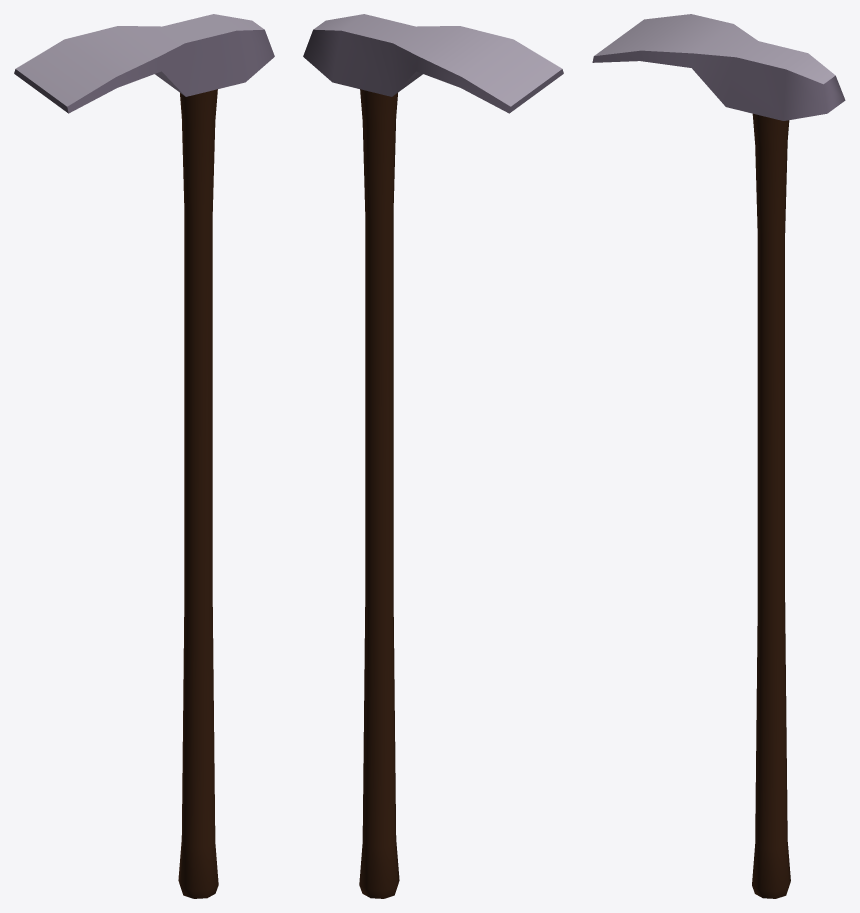
Rendered from VillagerPlow.fbx.
The picture shows the model from 3 angles, left to right: view 1: azimuth 30°, elevation 25°; view 2: azimuth 150°, elevation 25°; view 3: azimuth 330°, elevation 25°; orthographic projection. The views are drawn at different scales.
Parts seen in each view (by area): view 1: VillagerPlow; view 2: VillagerPlow; view 3: VillagerPlow.
Boxes of the visible parts, x1,y1,x2,y2 form: VillagerPlow: (14,14,274,898); VillagerPlow: (303,14,563,898); VillagerPlow: (592,14,845,898).
Size of the model in its own units: 38.25 by 141 by 16.13.
